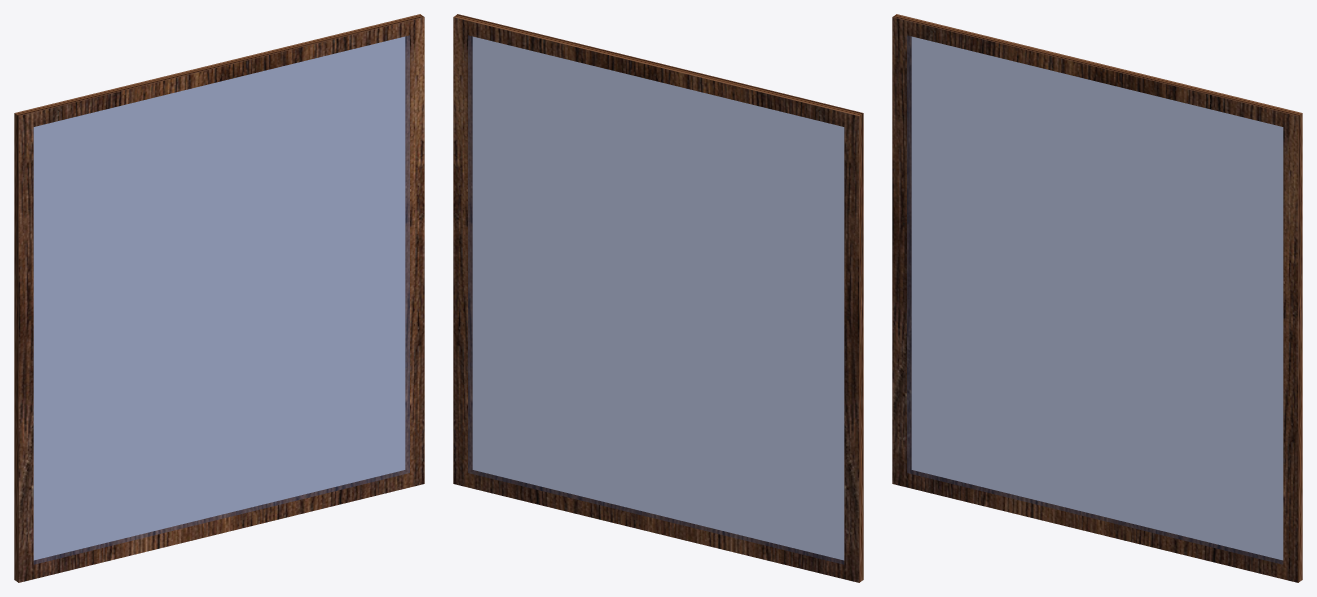
The model's file is Window_Outside_Original.fbx.
3 views of the same model, side by side, from view 1: azimuth 30°, elevation 25°; view 2: azimuth 150°, elevation 25°; view 3: azimuth 330°, elevation 25° (orthographic).
Visible parts, largest first — view 1: Window_OutSide_Original; view 2: Window_OutSide_Original; view 3: Window_OutSide_Original.
Boxes of the visible parts, x1=… form: Window_OutSide_Original: x1=14, y1=14, x2=424, y2=582; Window_OutSide_Original: x1=453, y1=14, x2=863, y2=582; Window_OutSide_Original: x1=892, y1=14, x2=1302, y2=582.
Size of the model in its own units: 28.64 by 31.46 by 0.5329.
Materials: 2 (1 with a texture image).
